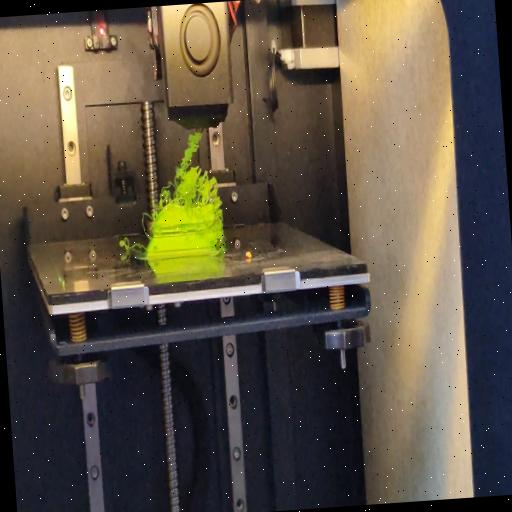spaghetti: (154, 130, 224, 214), (212, 208, 225, 256), (120, 236, 144, 256), (140, 207, 154, 238)
